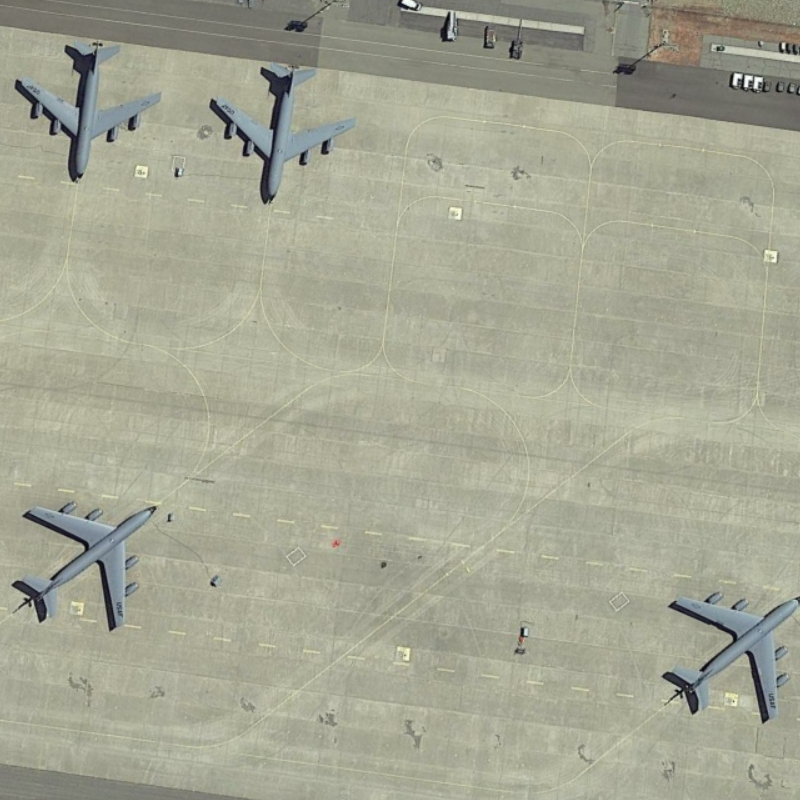A14: (200, 53, 361, 206), (13, 36, 167, 189), (7, 490, 160, 639), (657, 581, 800, 732)
